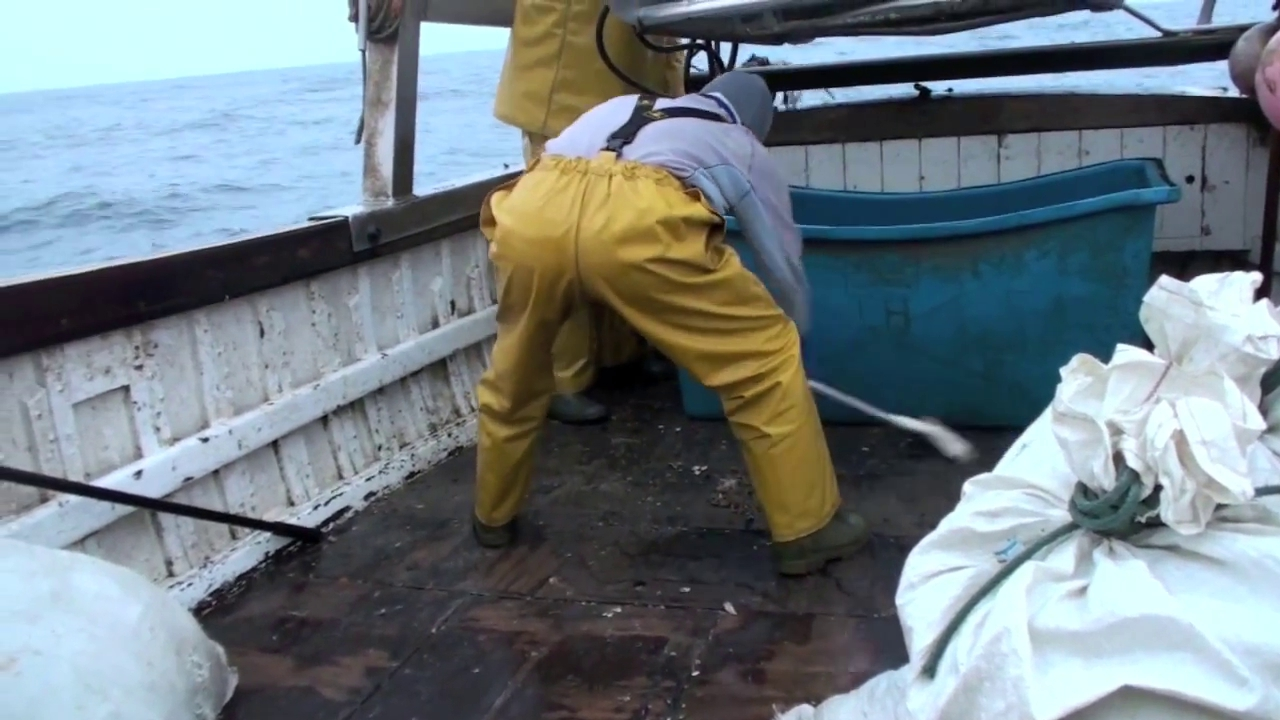person: (470, 72, 869, 579)
